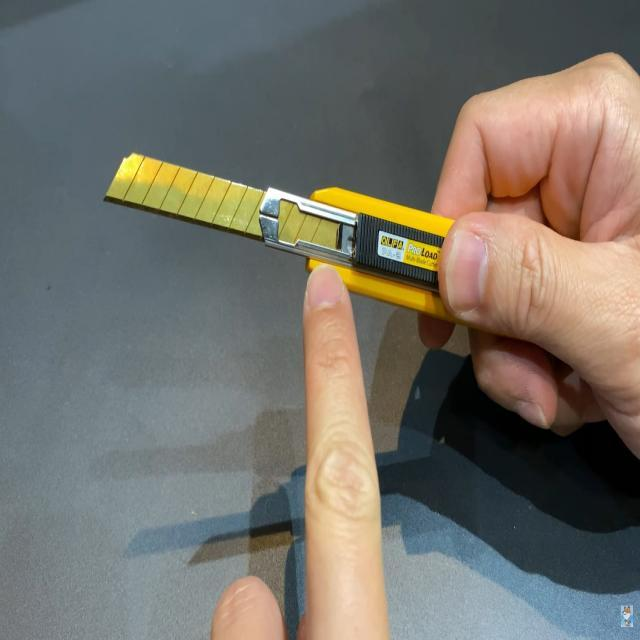cutter: (69, 90, 640, 522)
